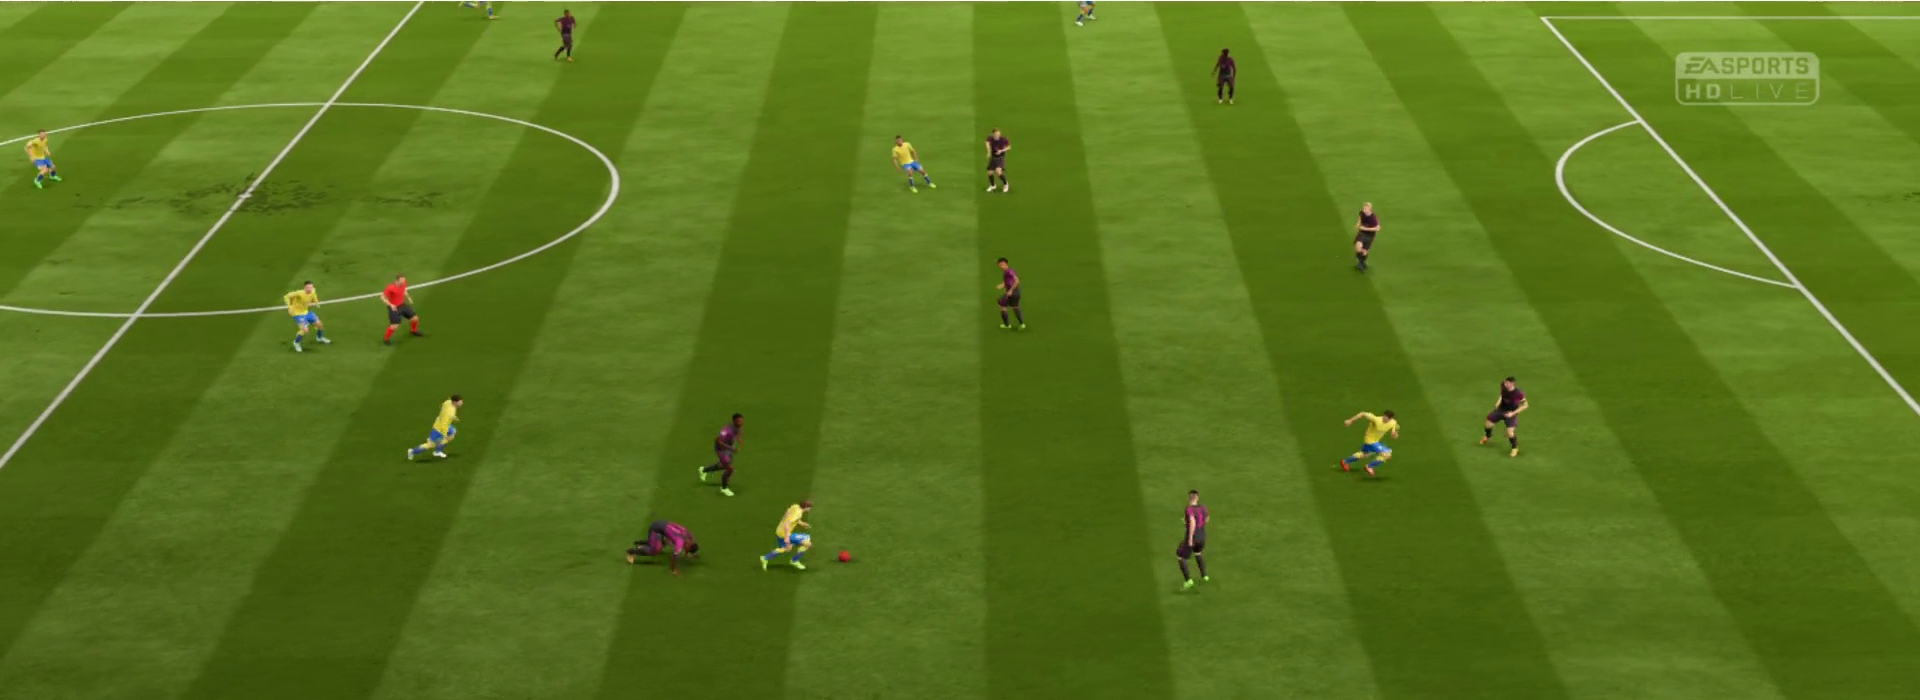person: (1337, 400, 1400, 477), (755, 494, 815, 571), (1168, 487, 1211, 592), (626, 516, 700, 577), (697, 408, 745, 498), (405, 391, 465, 462), (1479, 372, 1529, 457), (376, 271, 421, 347), (284, 280, 330, 352), (885, 132, 936, 194), (990, 255, 1028, 331), (21, 127, 63, 191), (1346, 201, 1380, 274), (983, 126, 1012, 194), (1209, 45, 1237, 105), (552, 7, 578, 62), (837, 548, 852, 566)
